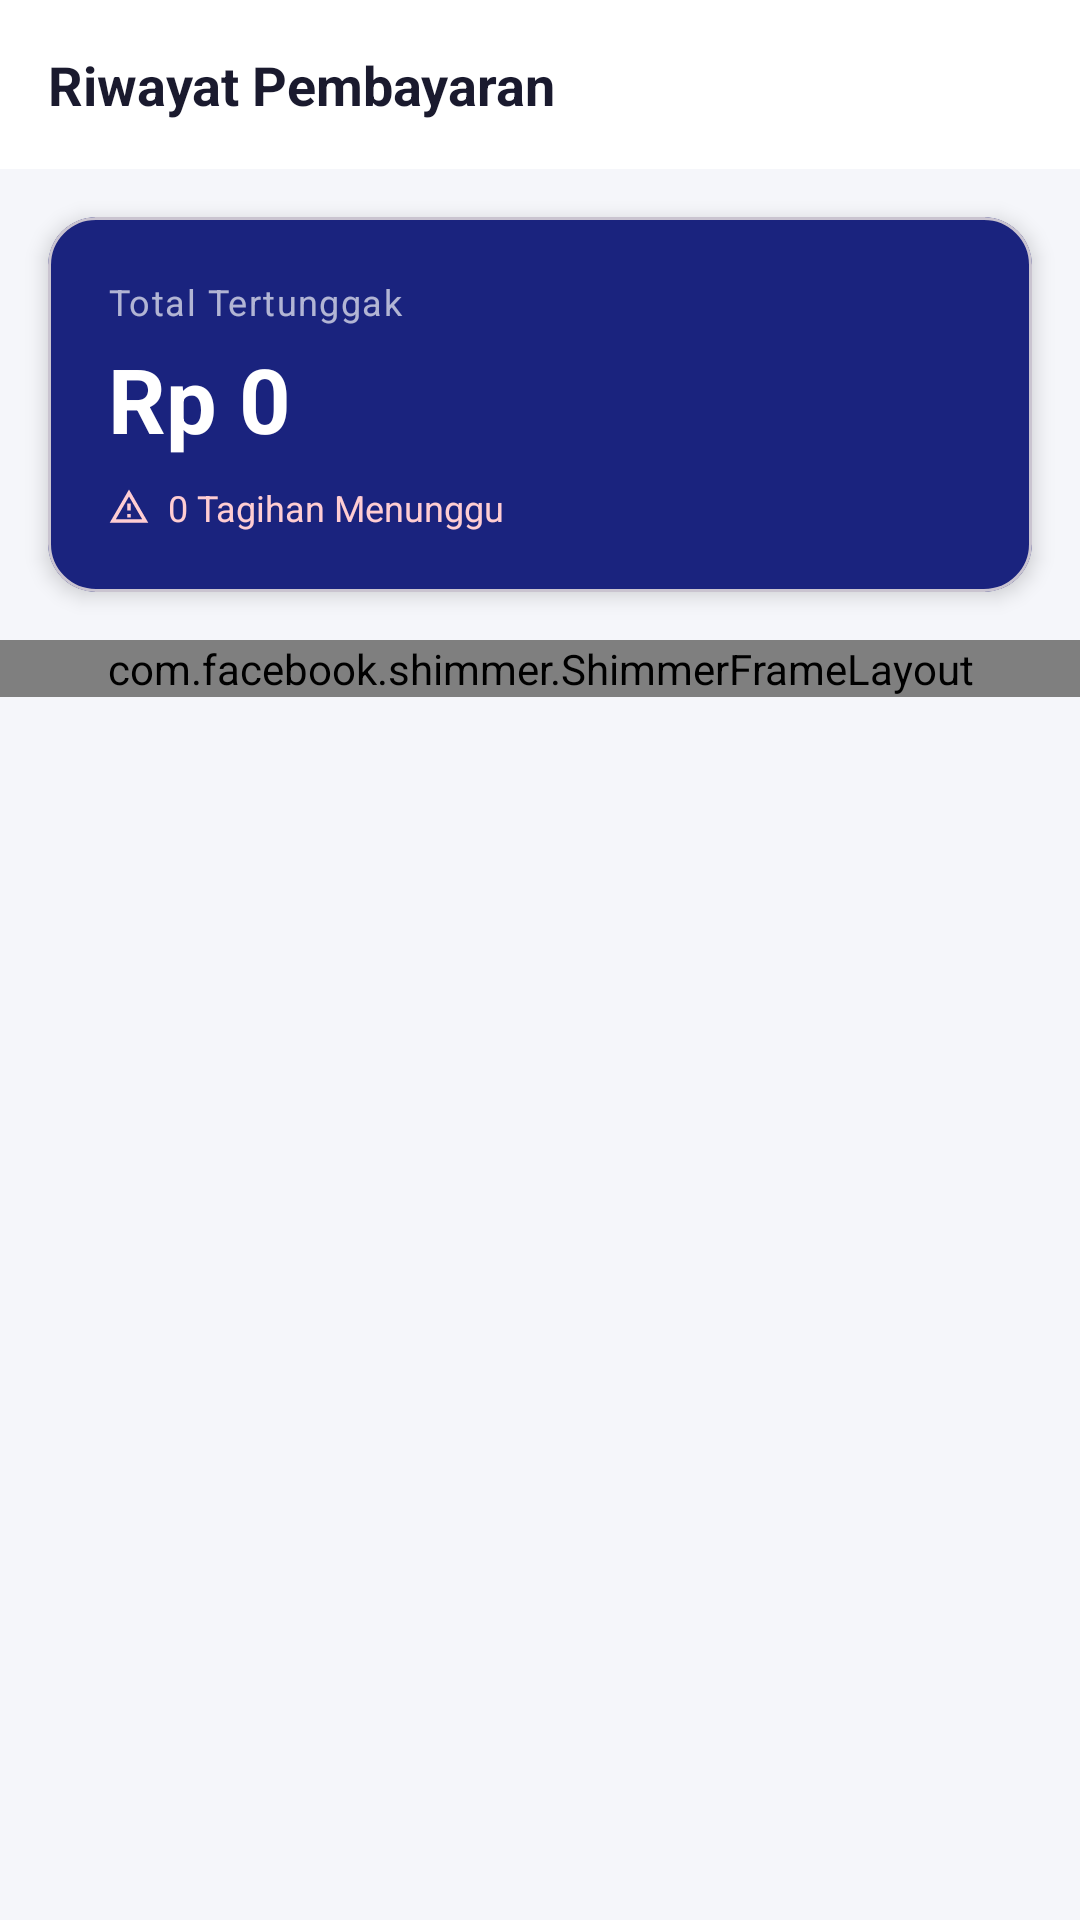

Screen size 1080*1920. Icon name, then its box in pixels as {"x1": x1, "y1": y1, "x2": x2, "y2": y2}:
warning: {"x1": 110, "y1": 490, "x2": 148, "y2": 523}
